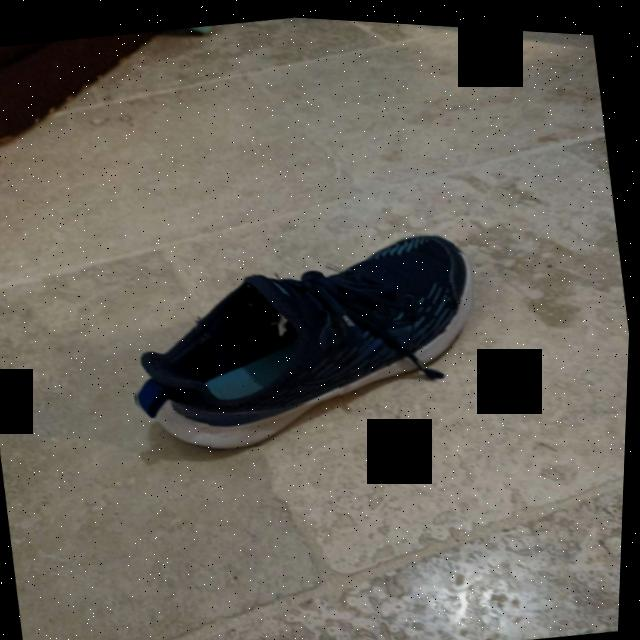shoe: (113, 206, 498, 472)
